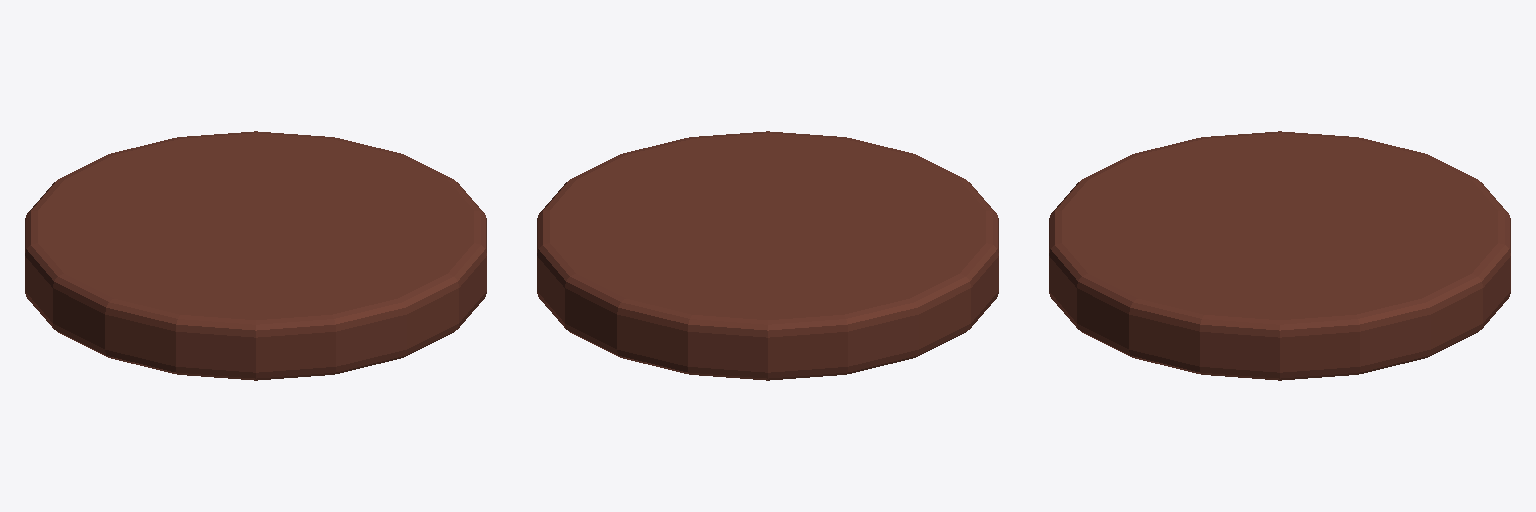
The model's file is Stool.obj.
The picture shows the model from 3 angles: view 1: azimuth 30°, elevation 25°; view 2: azimuth 150°, elevation 25°; view 3: azimuth 270°, elevation 25°; orthographic projection.
Visible parts, largest first — view 1: Cylinder002; view 2: Cylinder002; view 3: Cylinder002.
Part boxes in pixels (left/top/right/bottom): Cylinder002: left=25, top=131, right=486, bottom=380; Cylinder002: left=537, top=131, right=998, bottom=380; Cylinder002: left=1049, top=131, right=1510, bottom=380.
Size of the model in its own units: 239692 by 32921 by 236051.